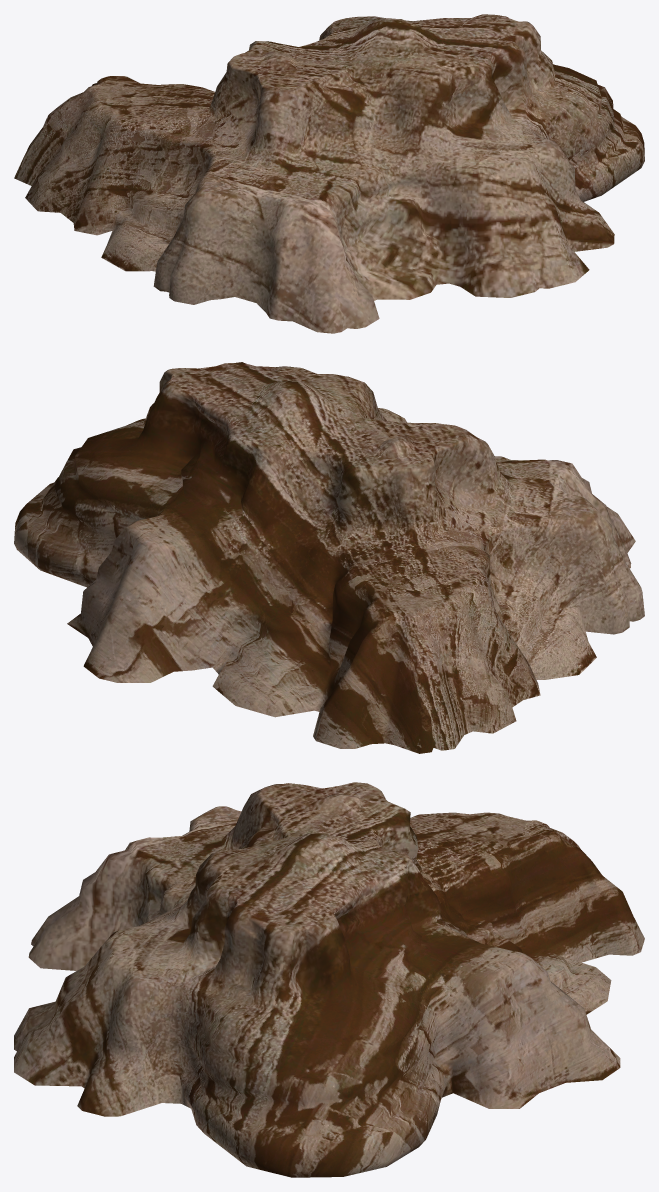
The model's file is canyon_mountain_top.dae.
3 renders of one model, top to bottom at view 1: azimuth 30°, elevation 25°; view 2: azimuth 150°, elevation 25°; view 3: azimuth 270°, elevation 25°, orthographic. The views are drawn at different scales.
Parts seen in each view (by area): view 1: Cube; view 2: Cube; view 3: Cube.
Boxes of the visible parts, box(x1,y1,x2,y2) form: Cube: box(14, 14, 644, 333); Cube: box(14, 362, 644, 753); Cube: box(14, 782, 644, 1177).
Size of the model in its own units: 36.51 by 12.13 by 33.25.
